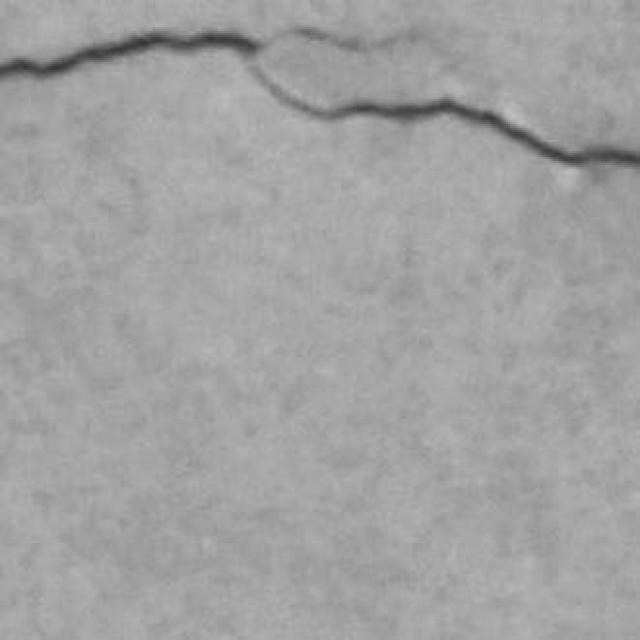crack: (0, 32, 639, 166), (256, 70, 639, 168), (0, 32, 265, 79)
